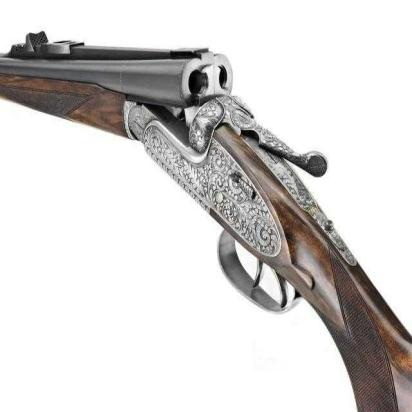Gun: (0, 24, 409, 412)
